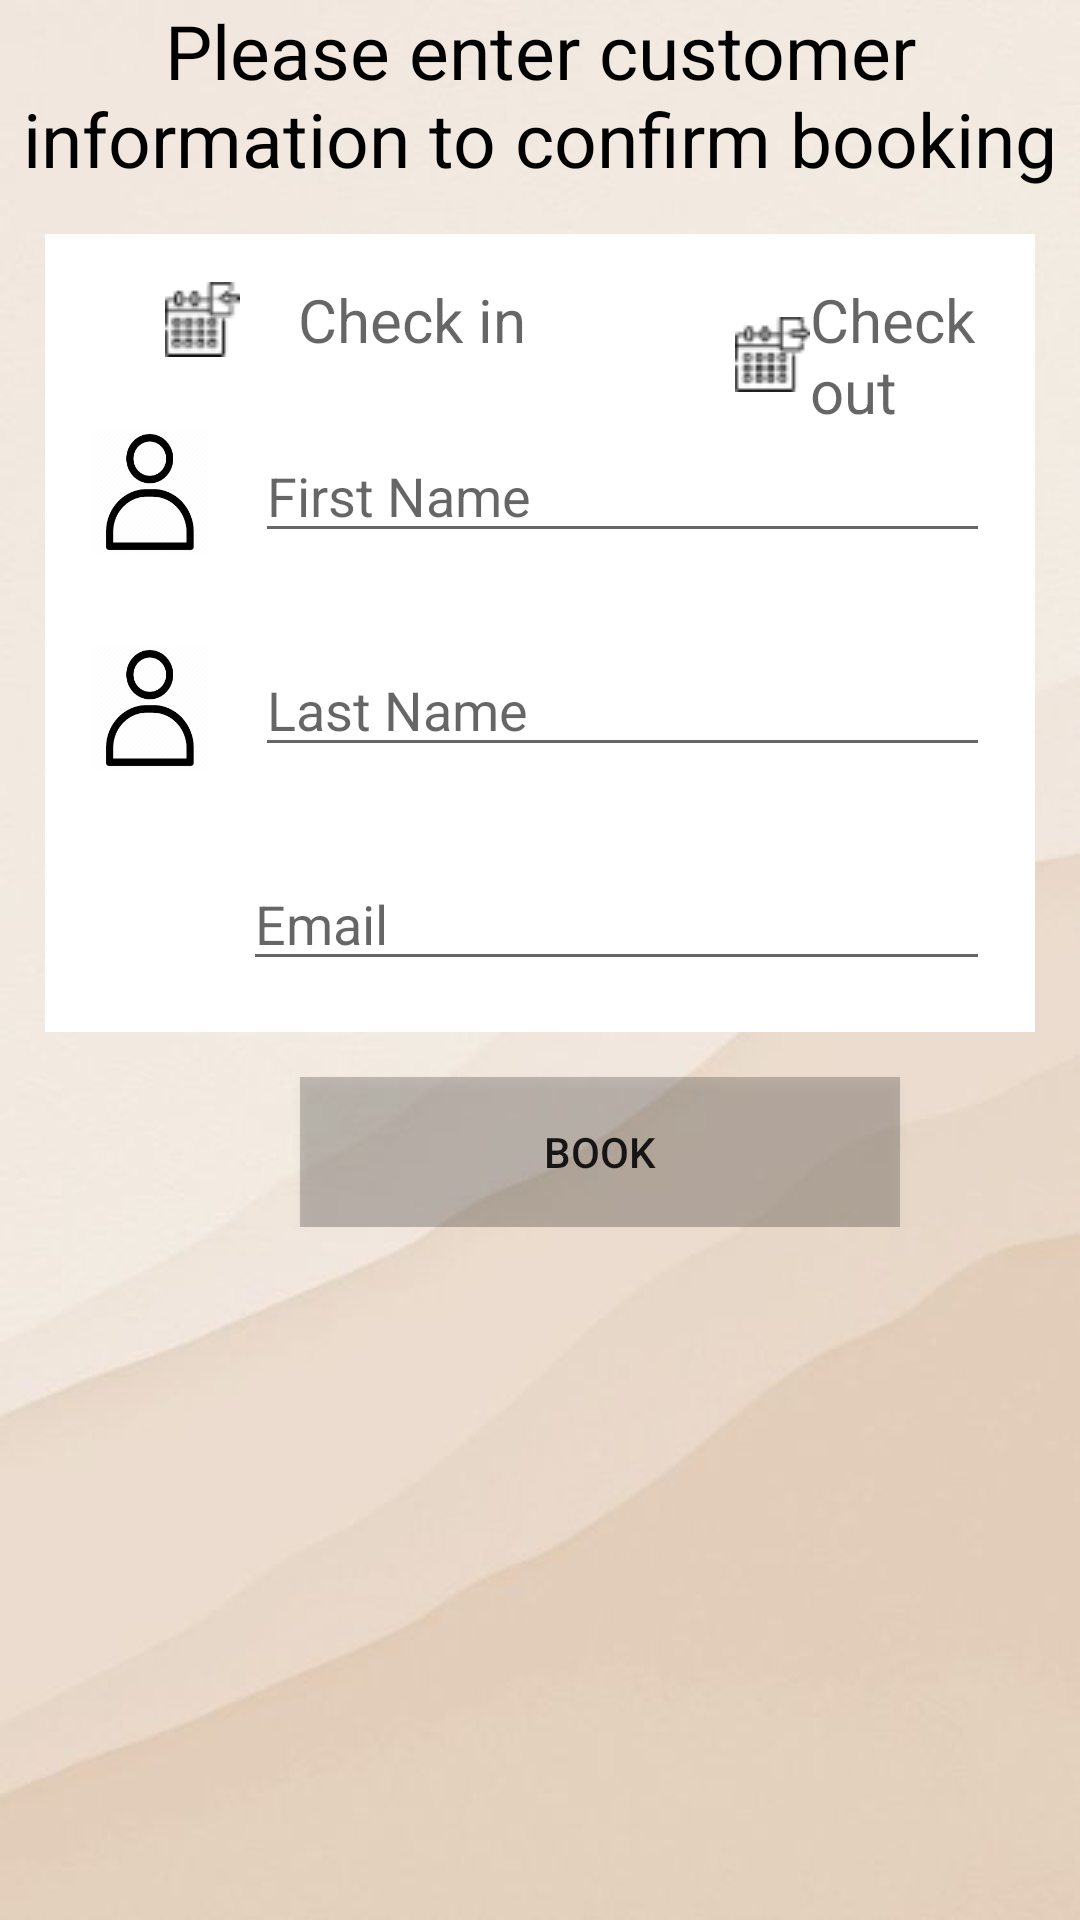

Named icons in this screenshot (1080x1920) and their bounding boxes, (x1=x1, y1=y1, x2=x2, y2=y2):
profile: (x1=106, y1=434, x2=194, y2=550), (x1=106, y1=650, x2=194, y2=766)
